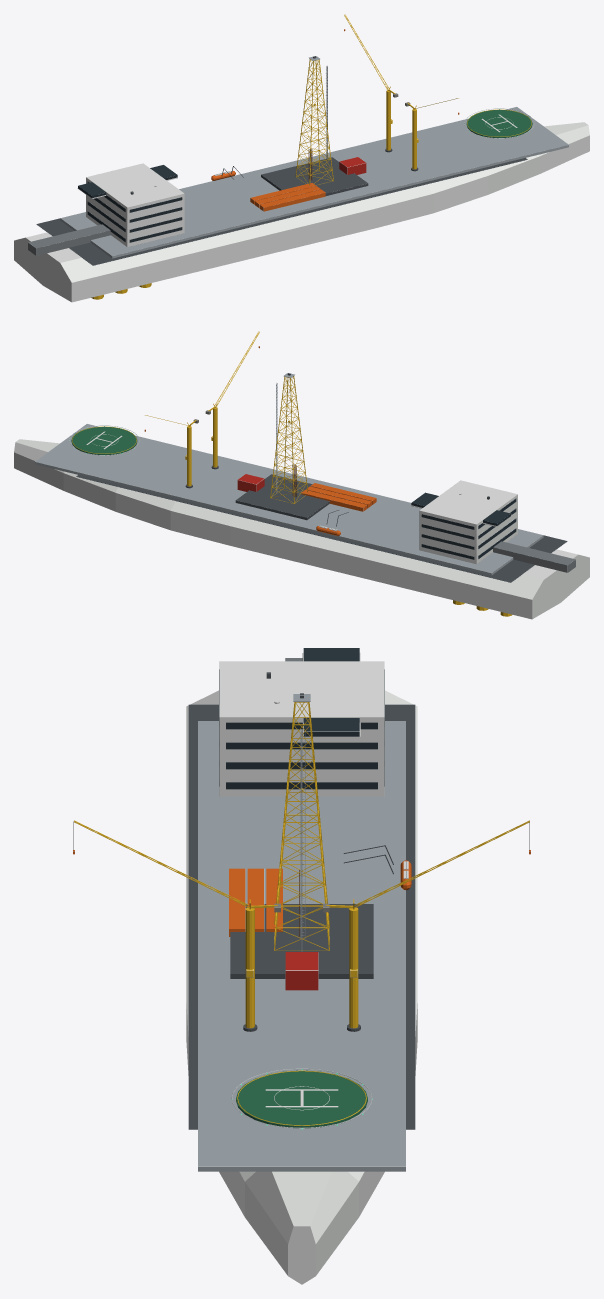
File: off_drillship.glb
3 renders of one model, top to bottom at view 1: azimuth 30°, elevation 25°; view 2: azimuth 150°, elevation 25°; view 3: azimuth 270°, elevation 25°, orthographic. The views are drawn at different scales.
Visible parts, largest first — view 1: off_drillship; view 2: off_drillship; view 3: off_drillship.
Part boxes in pixels (x1,y1,x2,y2): off_drillship: (14, 14, 589, 302); off_drillship: (14, 331, 589, 619); off_drillship: (73, 648, 530, 1284).
Bounding box in the file's own units: 233 × 75.03 × 83.17.
